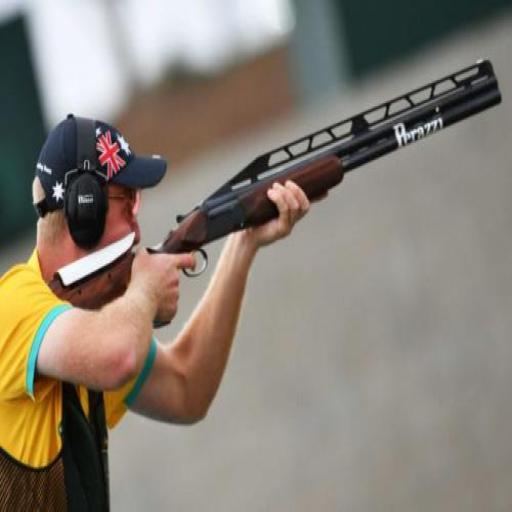shooting: (0, 110, 312, 510)
